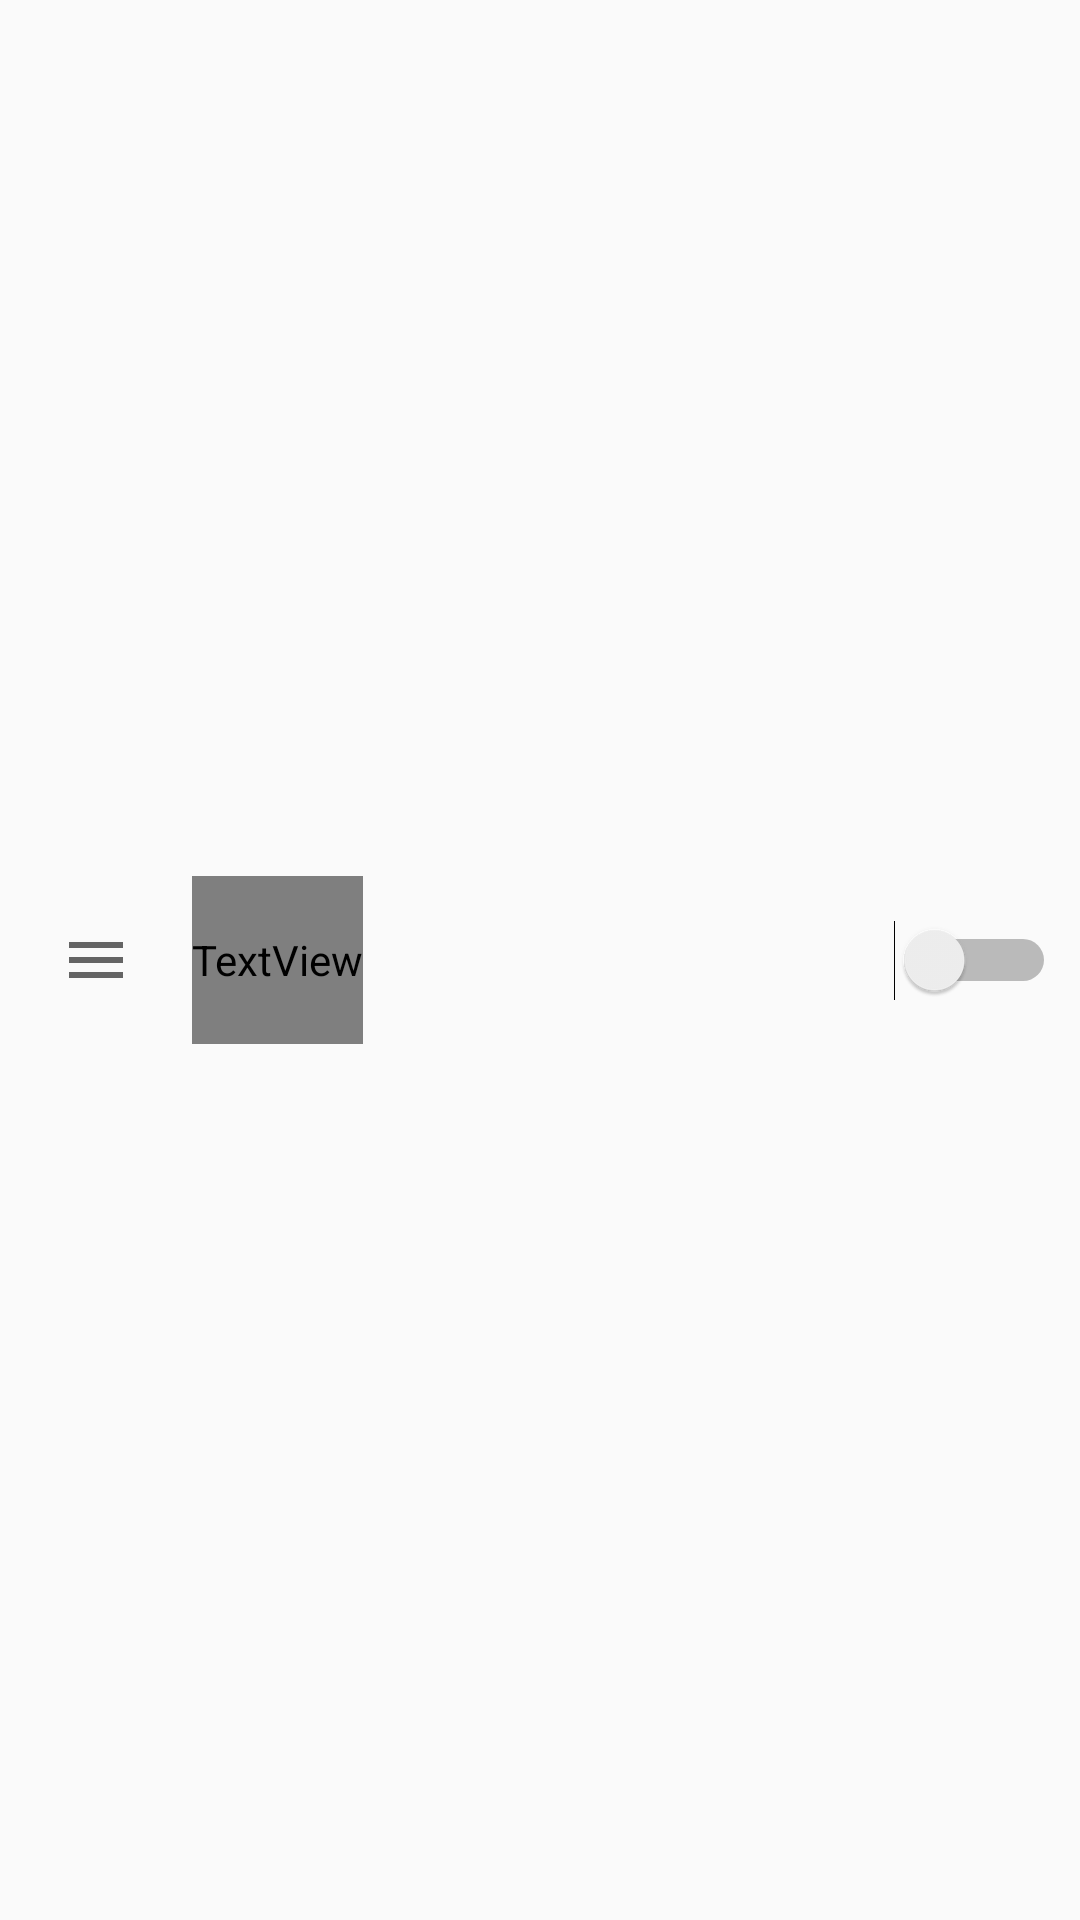

Named icons in this screenshot (1080px x 1920px) and their bounding boxes, bbox=[x1, y1, x2, y2]:
hamburger: bbox=[69, 942, 123, 978]
